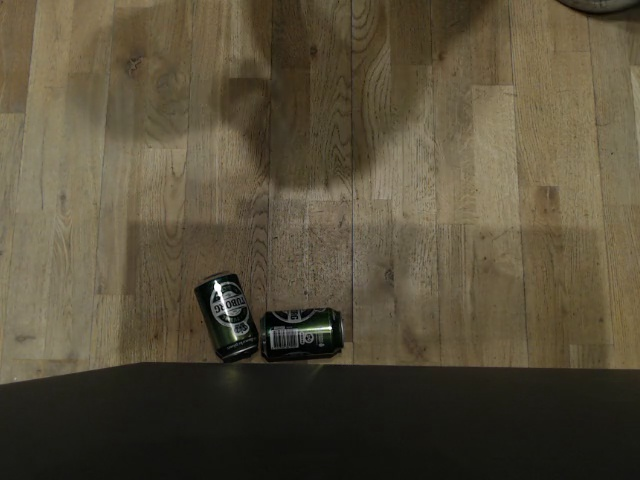beer: (194, 271, 257, 360), (260, 307, 345, 360)
